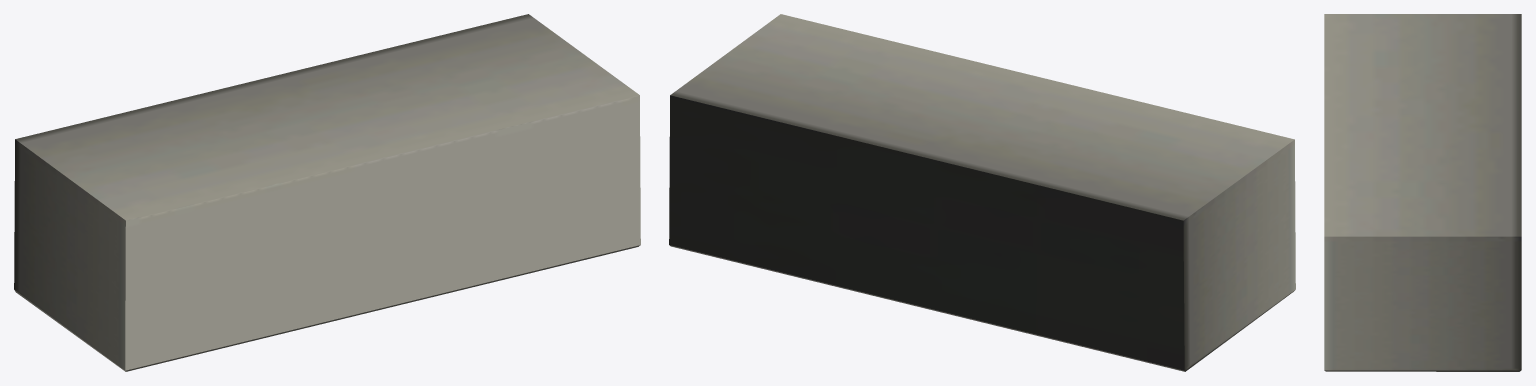
Rendered from nt_2020_bookshelf_03_LOD1.obj.
The picture shows the model from 3 angles, left to right: view 1: azimuth 30°, elevation 25°; view 2: azimuth 150°, elevation 25°; view 3: azimuth 270°, elevation 25°; orthographic projection. The views are drawn at different scales.
Visible parts, largest first — view 1: mtl_nt_2020_bookshelf_03; view 2: mtl_nt_2020_bookshelf_03; view 3: mtl_nt_2020_bookshelf_03.
Part boxes in pixels (<box>): mtl_nt_2020_bookshelf_03: <box>14,14,640,371</box>; mtl_nt_2020_bookshelf_03: <box>669,14,1295,371</box>; mtl_nt_2020_bookshelf_03: <box>1324,14,1521,371</box>.
Bounding box in the file's own units: 244 × 68.72 × 91.08.
